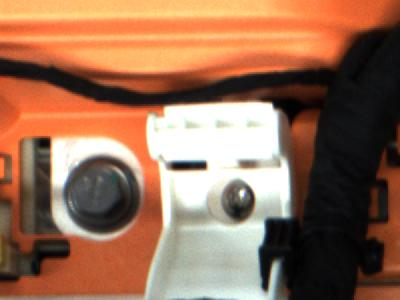nut_b: (57, 152, 143, 235)
